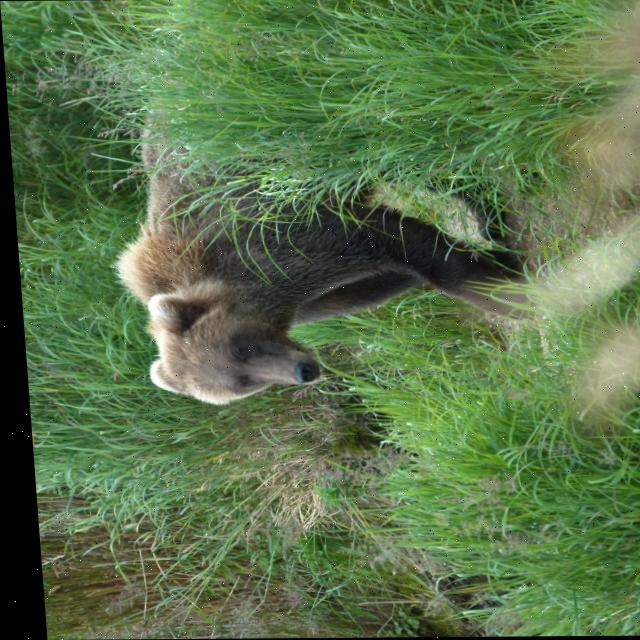bear face: (105, 128, 525, 406)
